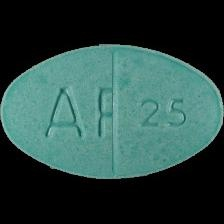68084-750: (0, 0, 224, 224)
